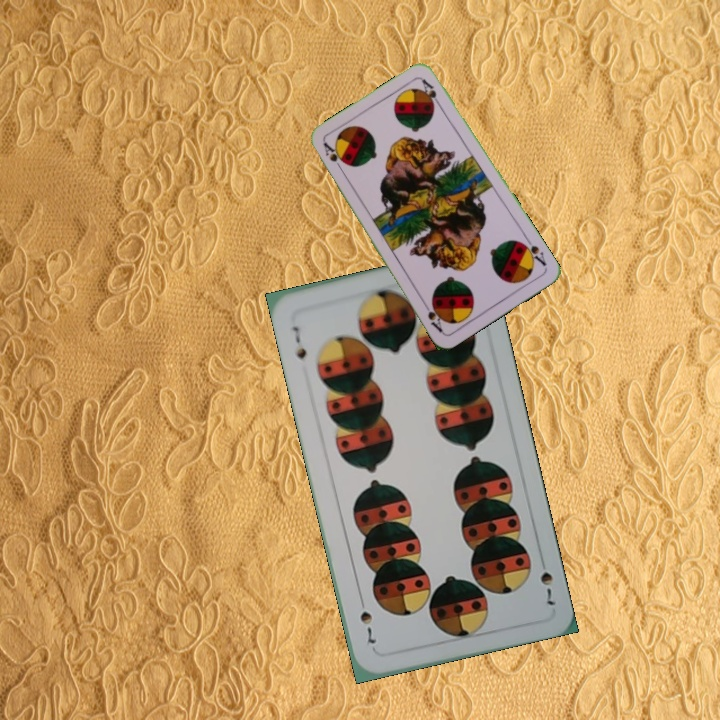S7: (536, 567, 558, 608), (288, 322, 309, 362)
SA: (517, 234, 549, 269), (319, 138, 346, 175)
